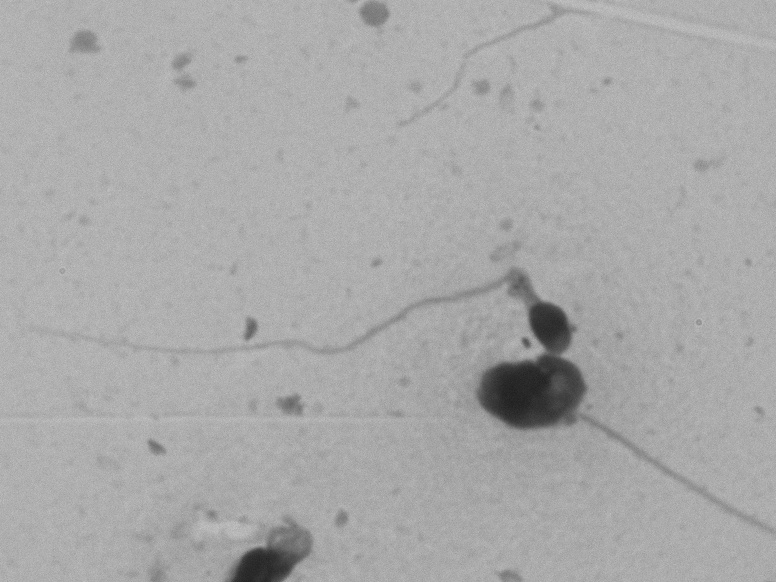Abnormal: (35, 218, 589, 362)
